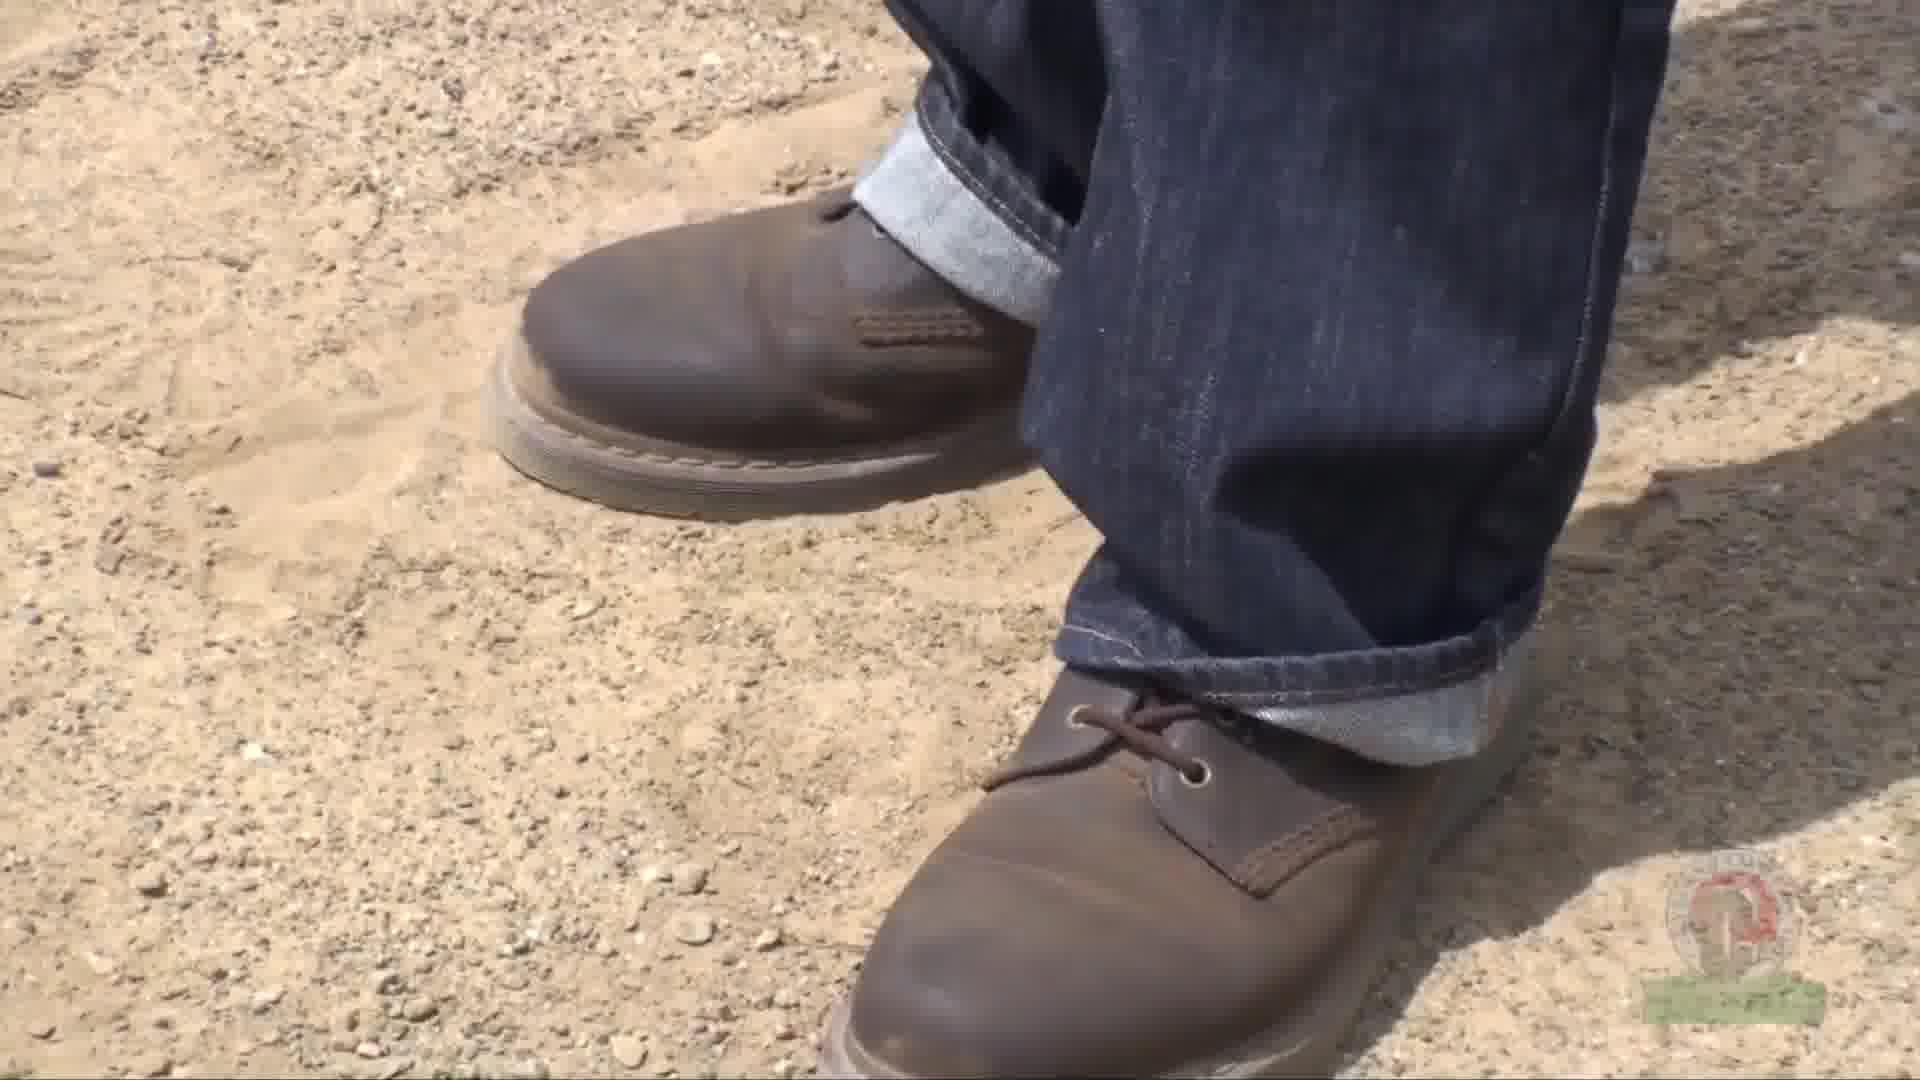safety boot: (335, 0, 1762, 1079), (483, 189, 1702, 1067)
